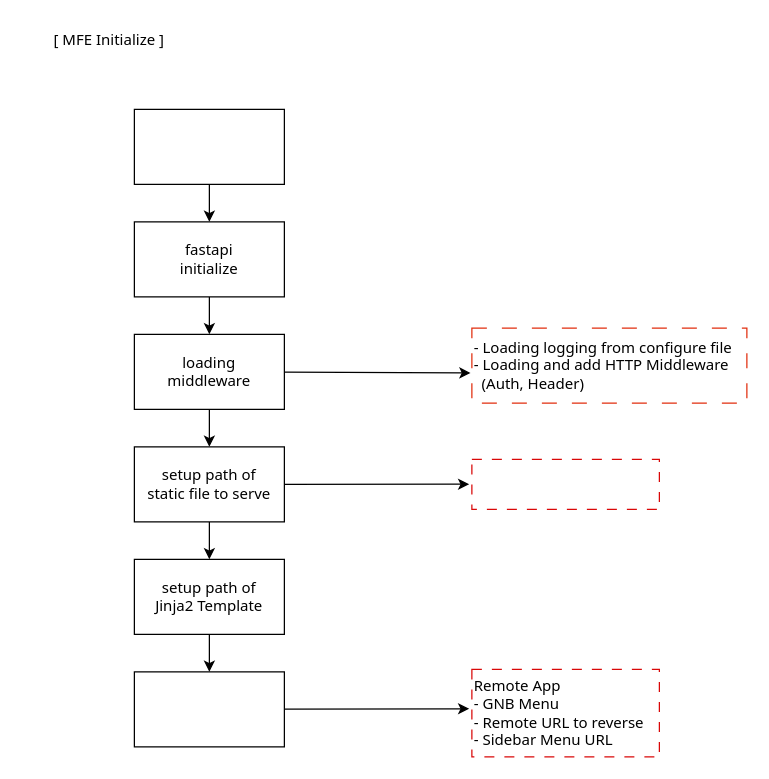
This 769x779 diagram has some shape labels left out. Each missing label, with the centre of its shape:
"- Assets(3rd party Lib) - common js/css/images" goes at pixel 565 483.
"load remote app meta information" goes at pixel 208 709.
"uvicorn start" goes at pixel 208 146.
